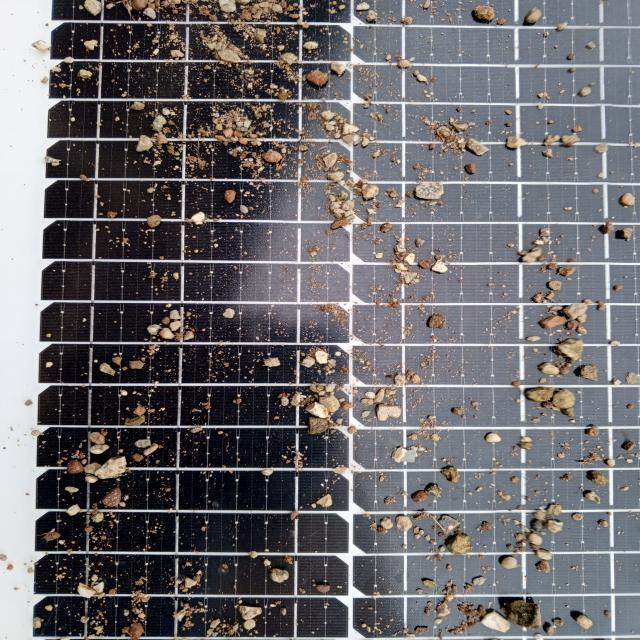Surface Contaminant: (22, 2, 639, 638)
